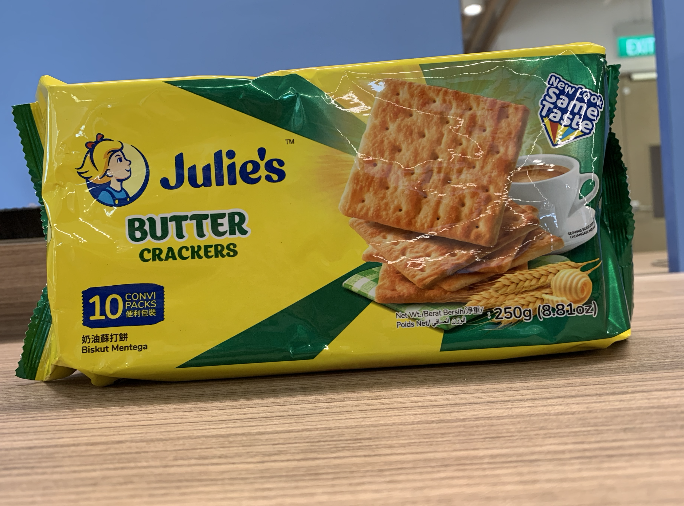crackers_150g: (75, 90, 600, 336)
